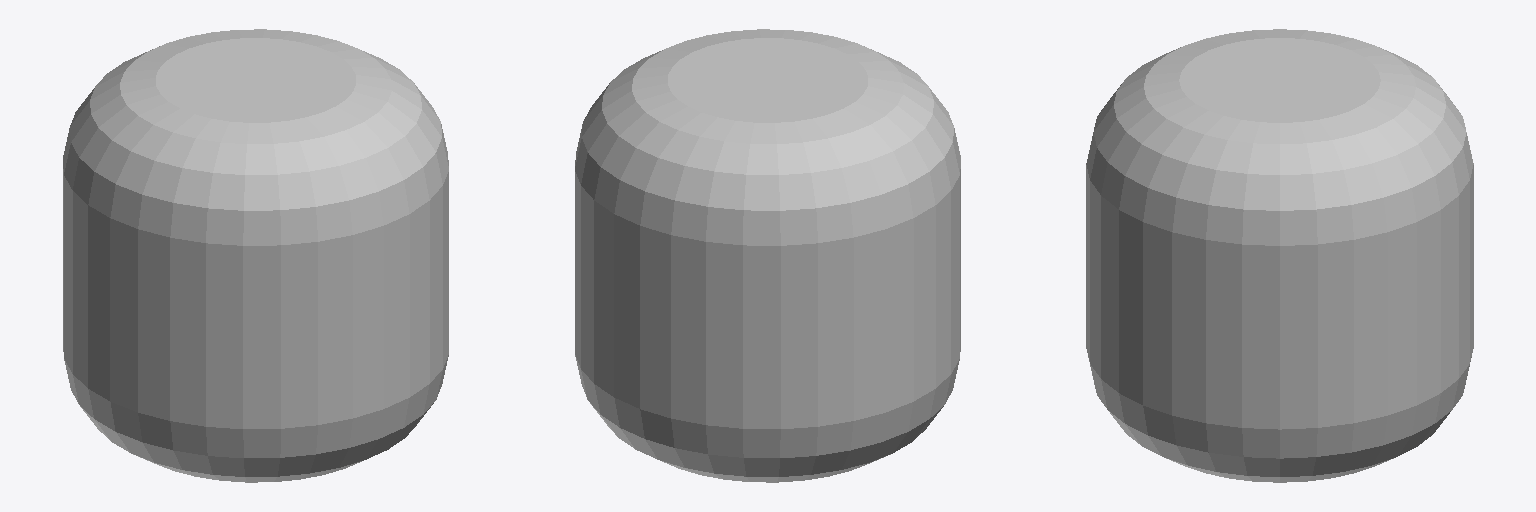
The model's file is head.obj.
The picture shows the model from 3 angles: view 1: azimuth 30°, elevation 25°; view 2: azimuth 150°, elevation 25°; view 3: azimuth 270°, elevation 25°; orthographic projection.
Visible parts, largest first — view 1: Cylinder.001; view 2: Cylinder.001; view 3: Cylinder.001.
Boxes of the visible parts, box(x1,y1,x2,y2) form: Cylinder.001: box(63, 29, 448, 482); Cylinder.001: box(575, 29, 960, 482); Cylinder.001: box(1086, 29, 1473, 482).
Bounding box in the file's own units: 1.2 × 1.2 × 1.2.